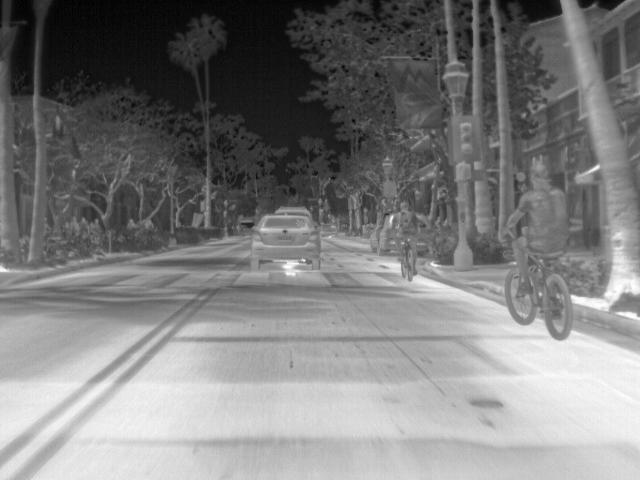car: (250, 213, 321, 270), (368, 211, 430, 258), (272, 204, 314, 222), (239, 221, 255, 238)
person: (502, 163, 572, 309), (398, 200, 414, 258), (77, 218, 92, 236), (42, 216, 54, 236), (67, 216, 79, 234), (125, 218, 139, 232), (93, 218, 105, 234), (143, 218, 156, 230), (62, 220, 70, 234)
